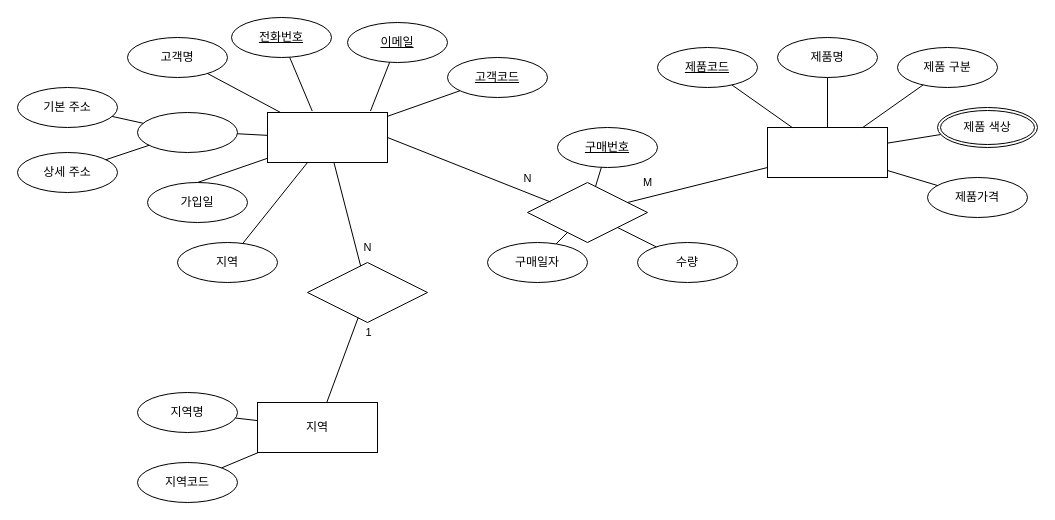
This 1055x520 diagram has some shape labels left out. Each missing label, with the centre of its shape:
"고객" goes at (327,137).
"관리" goes at (367,292).
"구매" goes at (587,212).
"제품" goes at (827,152).
"주소" goes at (187,132).
